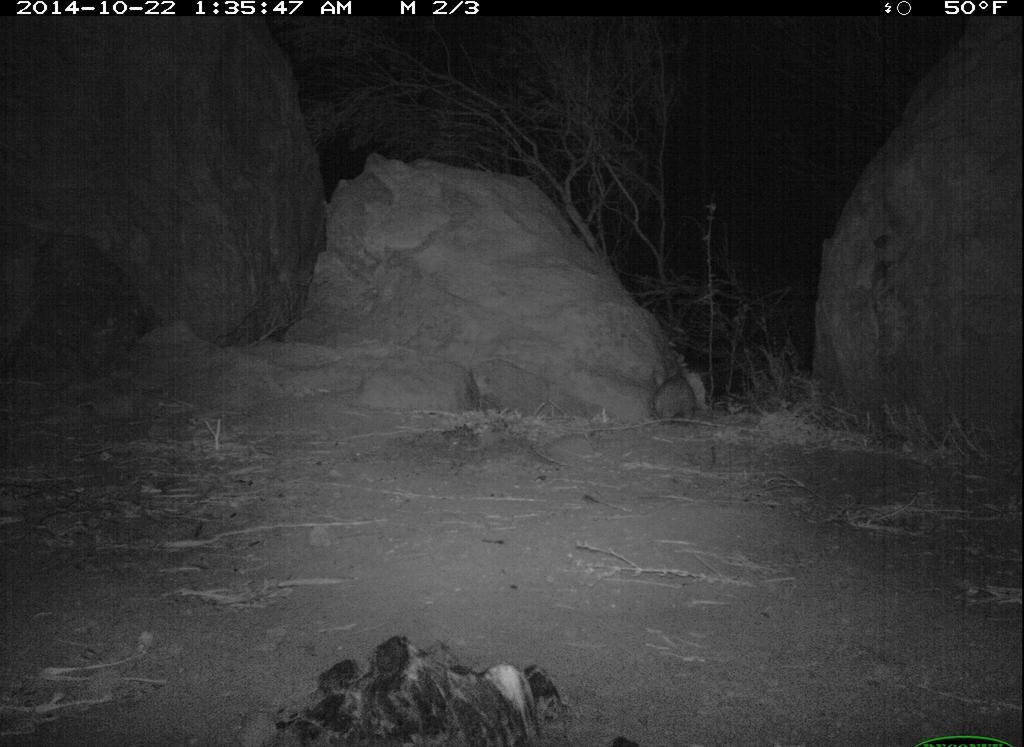rabbit: (648, 359, 706, 436)
